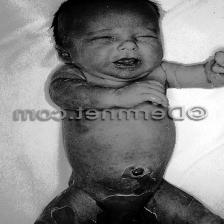Toxin: (72, 162, 102, 200), (148, 200, 188, 220), (69, 138, 94, 160), (76, 201, 106, 219), (142, 140, 168, 156), (102, 139, 122, 159), (117, 188, 152, 198)
